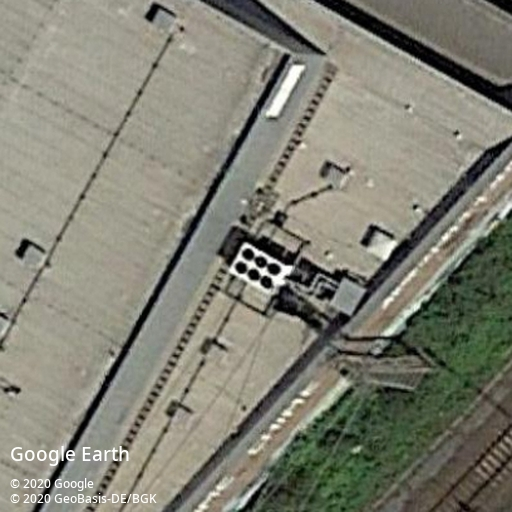Chiller: (227, 240, 295, 297)
